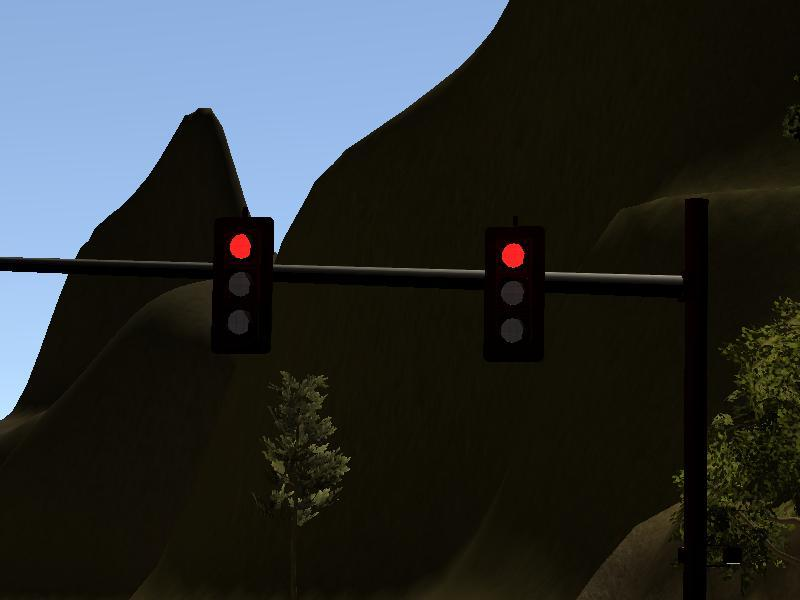Red: (480, 226, 543, 361), (211, 218, 272, 353)
